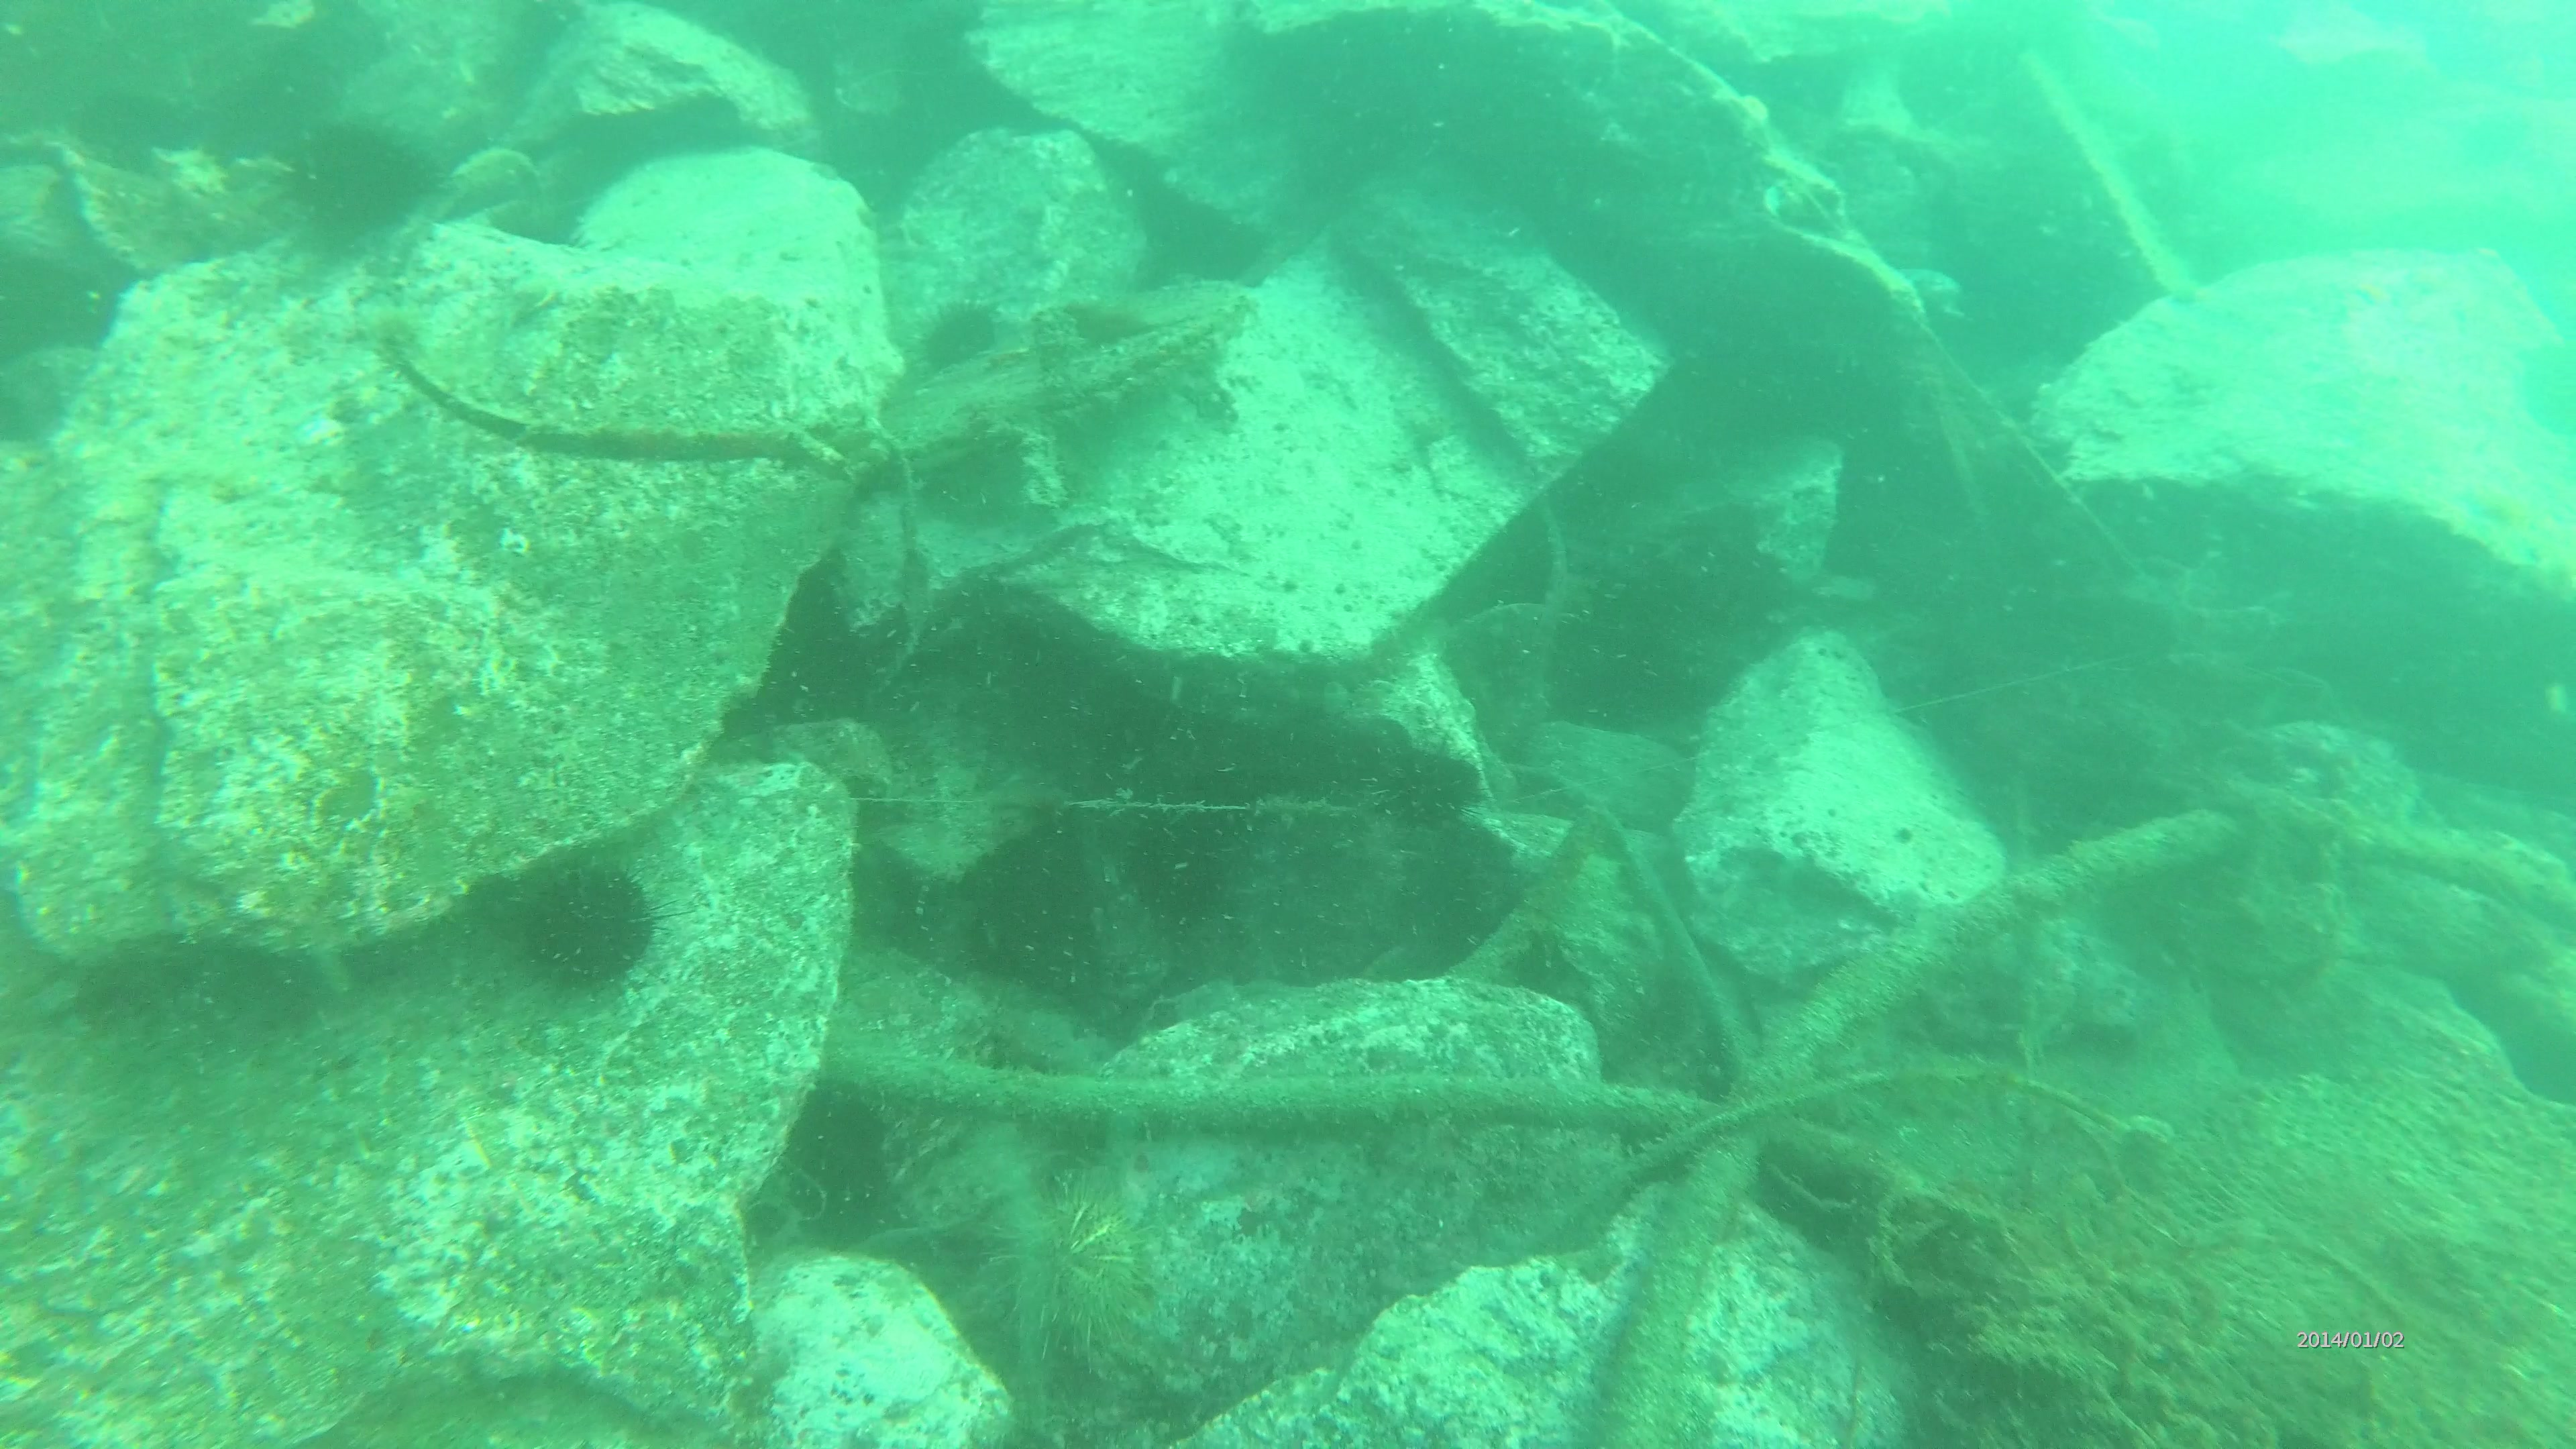echinus: (996, 1192, 1162, 1359), (506, 849, 681, 1001), (278, 111, 437, 242), (1380, 732, 1488, 842), (1136, 823, 1226, 932), (913, 297, 1000, 372)
